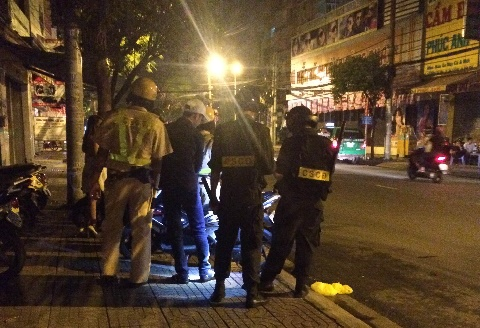police: (90, 76, 172, 290)
